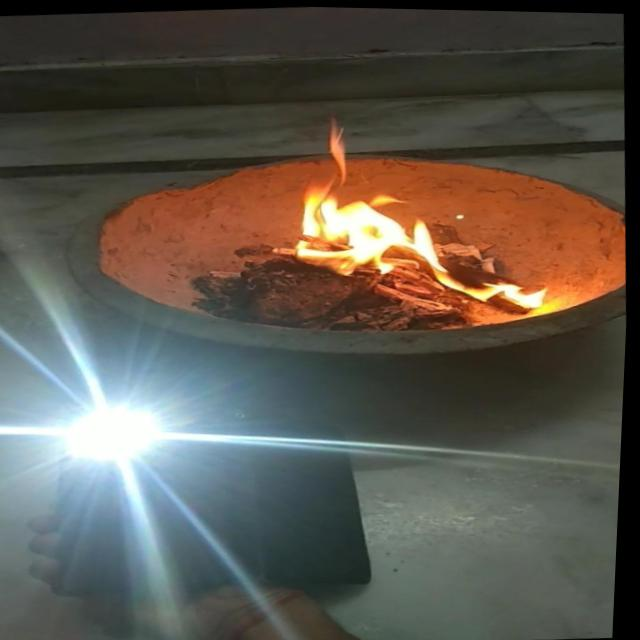fire: (268, 107, 561, 320)
